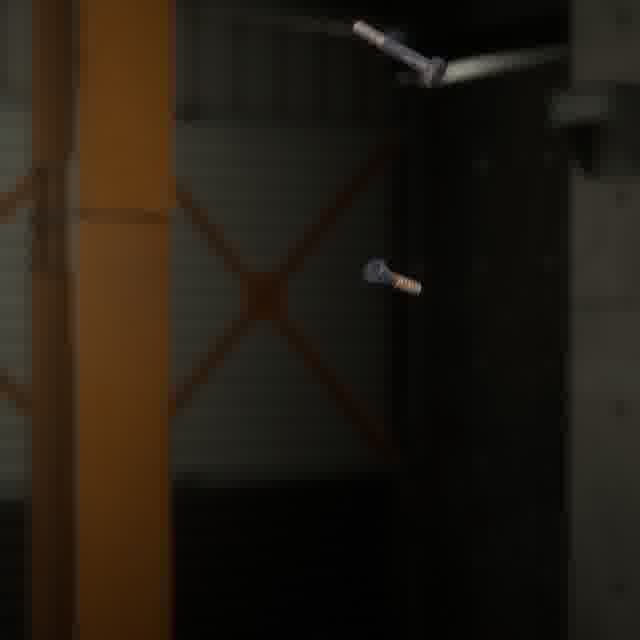bolt: (348, 16, 450, 90), (358, 254, 425, 299)
